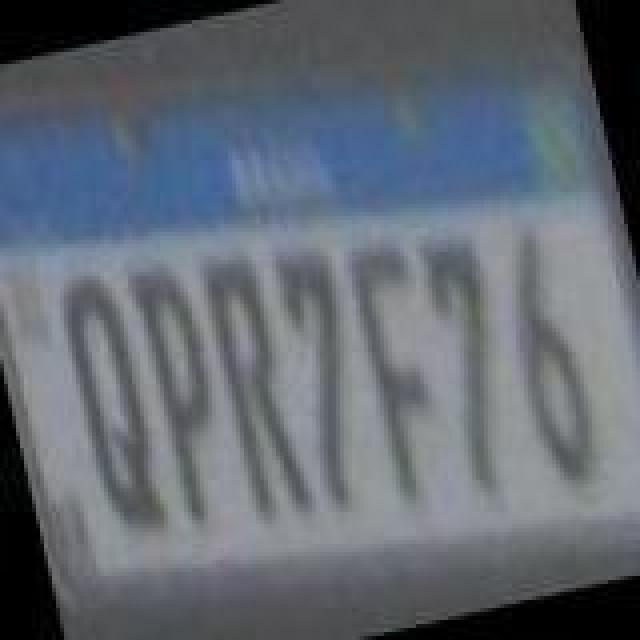6: (482, 214, 606, 498)
7: (266, 240, 390, 520), (412, 236, 532, 500)
F: (338, 230, 462, 506)
P: (122, 254, 246, 530)
Q: (50, 258, 174, 542)
R: (192, 246, 320, 530)
